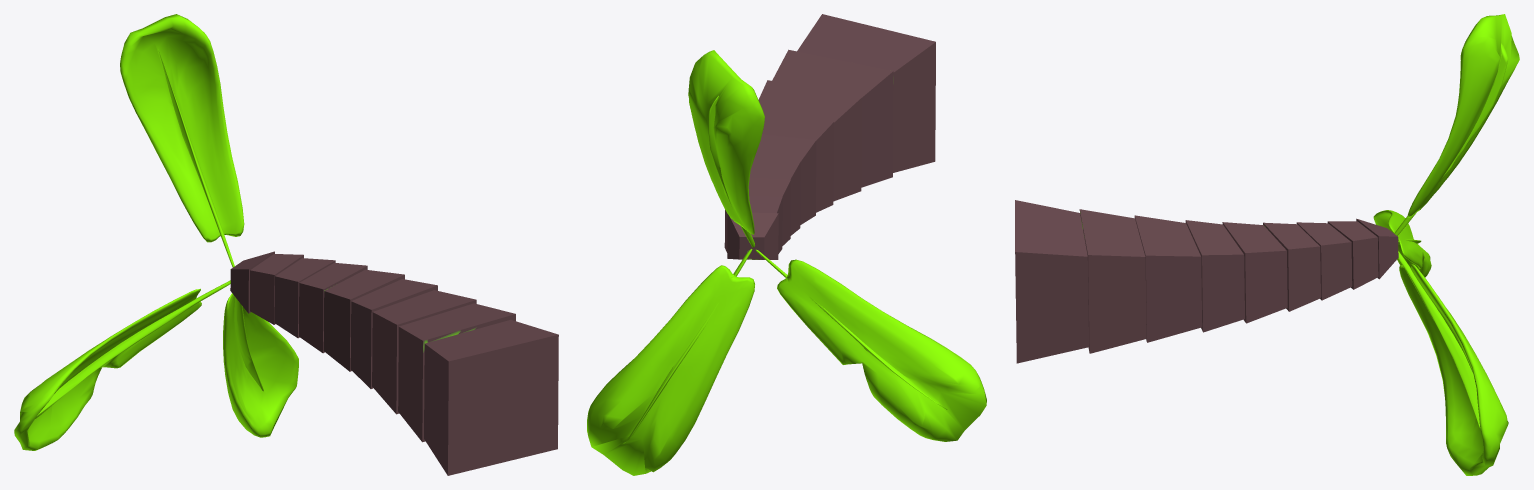
File: treePalm.obj
3 renders of one model, left to right at view 1: azimuth 30°, elevation 25°; view 2: azimuth 150°, elevation 25°; view 3: azimuth 270°, elevation 25°, orthographic. The views are drawn at different scales.
Parts seen in each view (by area): view 1: Mball.000_Mesh.003; view 2: Mball.000_Mesh.003; view 3: Mball.000_Mesh.003.
Part boxes in pixels (bbox=[...]): Mball.000_Mesh.003: bbox=[14, 14, 558, 475]; Mball.000_Mesh.003: bbox=[587, 14, 986, 475]; Mball.000_Mesh.003: bbox=[1015, 14, 1519, 475].
Size of the model in its own units: 6.39 by 7.52 by 8.2.
1 material, 1 textured.
